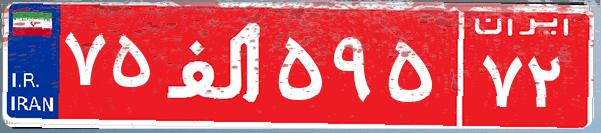2: (525, 38, 570, 115)
5: (385, 28, 445, 110), (273, 28, 330, 110), (110, 28, 158, 105)
7: (57, 26, 110, 107), (475, 38, 525, 113)
9: (330, 28, 385, 110)
الف: (158, 15, 273, 115)
